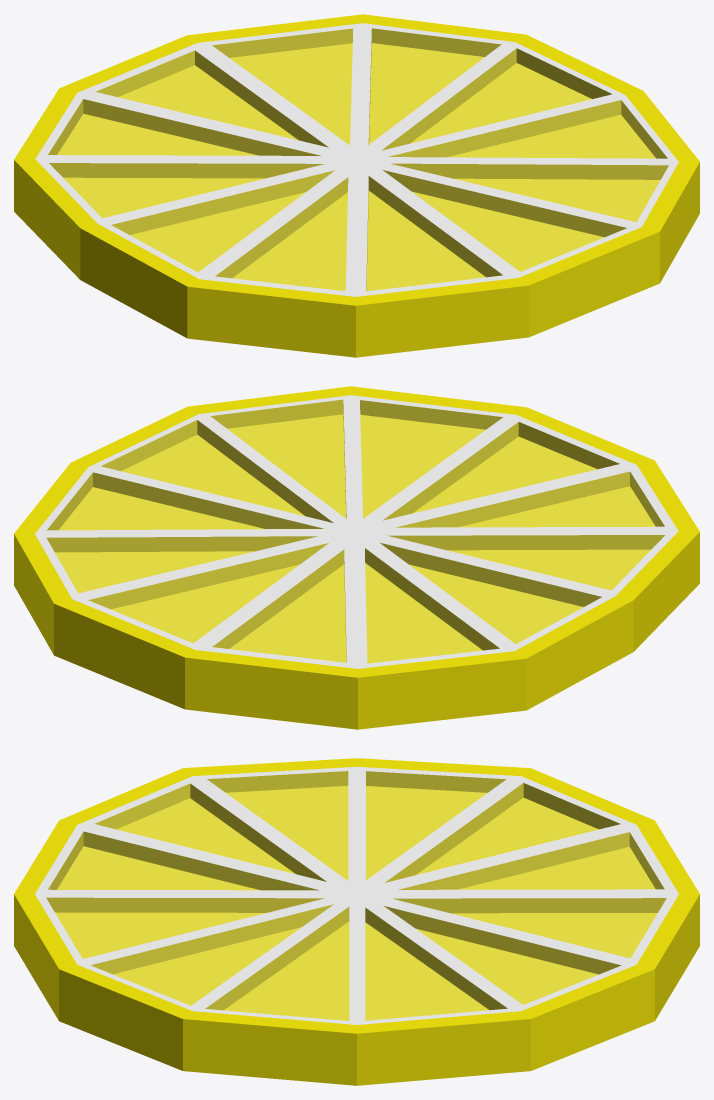
File: lemom-slice.fbx
The picture shows the model from 3 angles, top to bottom: view 1: azimuth 30°, elevation 25°; view 2: azimuth 150°, elevation 25°; view 3: azimuth 270°, elevation 25°; orthographic projection.
Visible parts, largest first — view 1: Cube.008; view 2: Cube.008; view 3: Cube.008.
Part boxes in pixels (left/top/right/bottom): Cube.008: left=14, top=14, right=699, bottom=357; Cube.008: left=14, top=386, right=699, bottom=729; Cube.008: left=14, top=758, right=699, bottom=1085.
Size of the model in its own units: 89.65 by 7.9 by 94.29.
